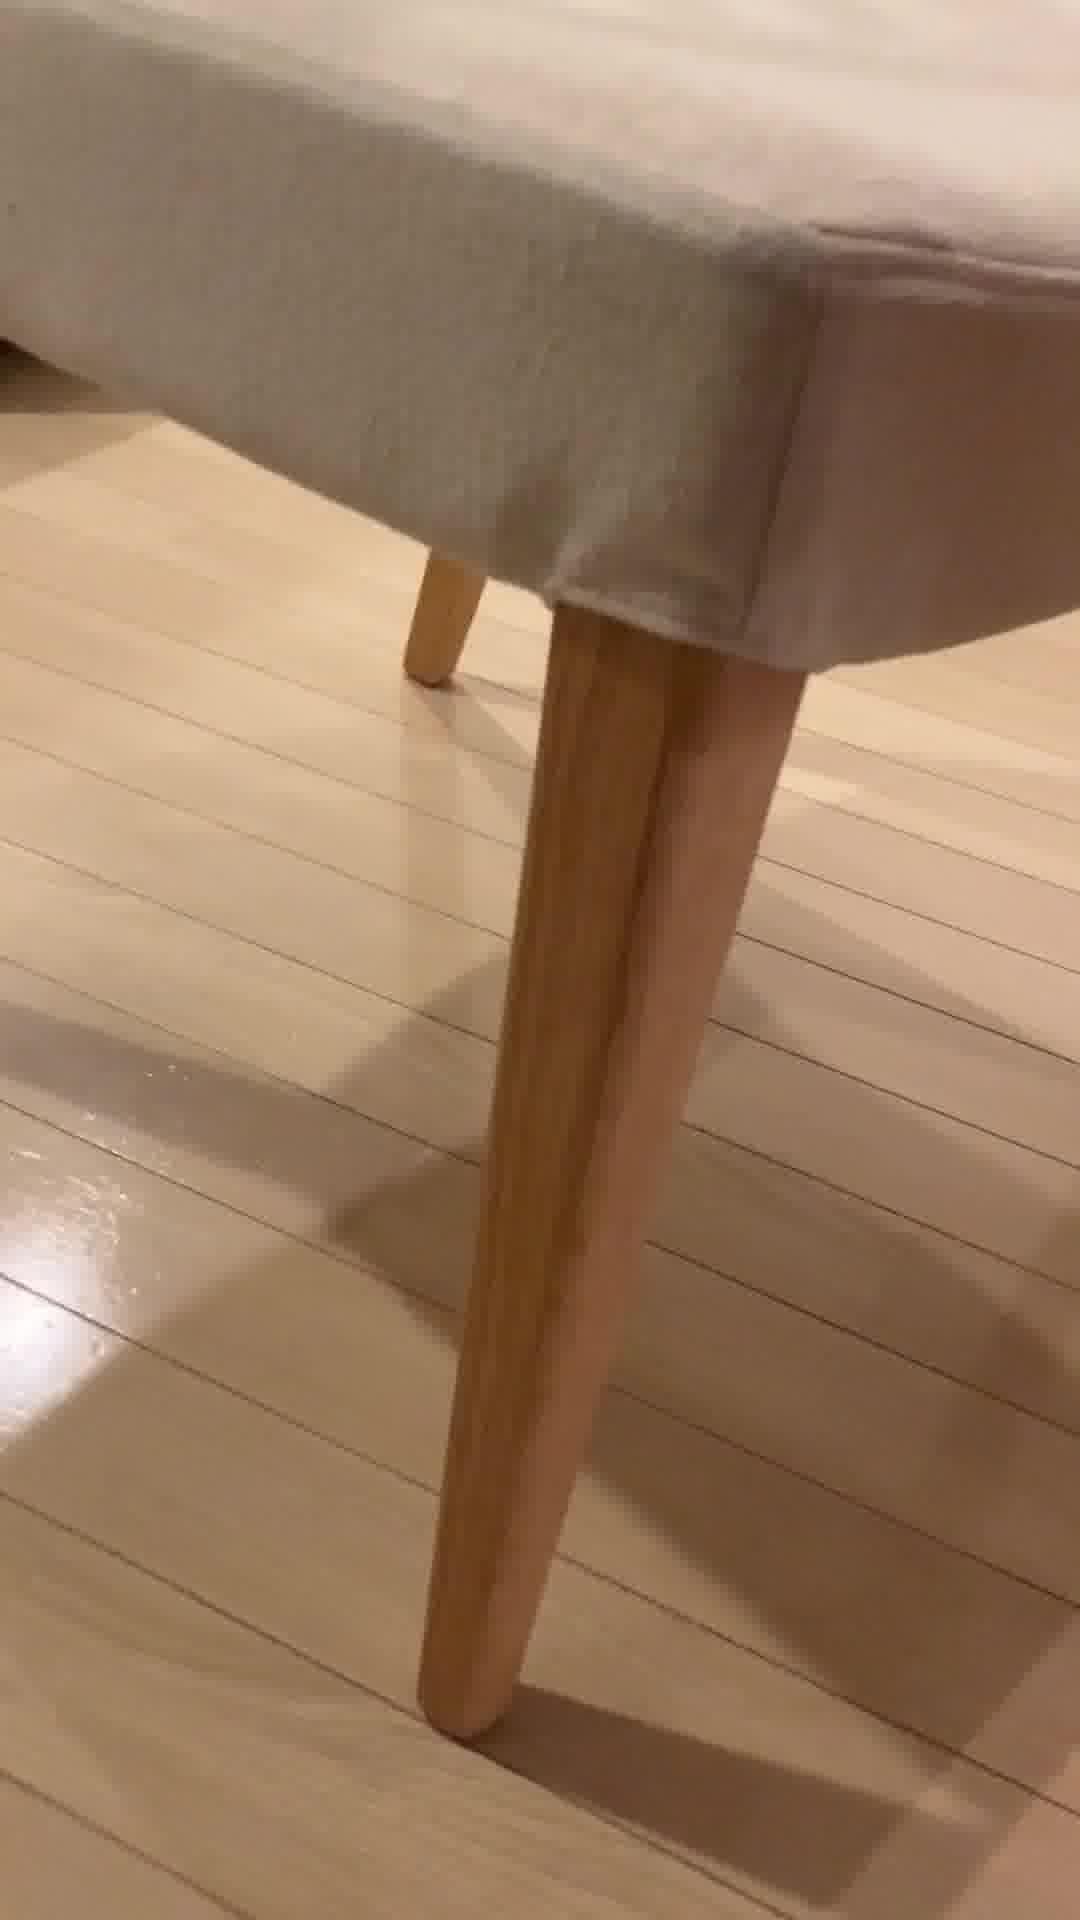takumikan-chair: (0, 0, 1080, 1737)
